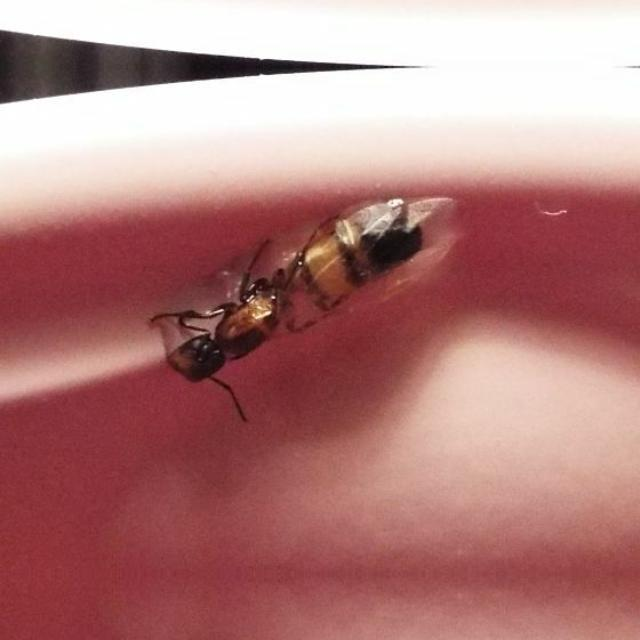Colobopsis: (142, 188, 434, 410)
